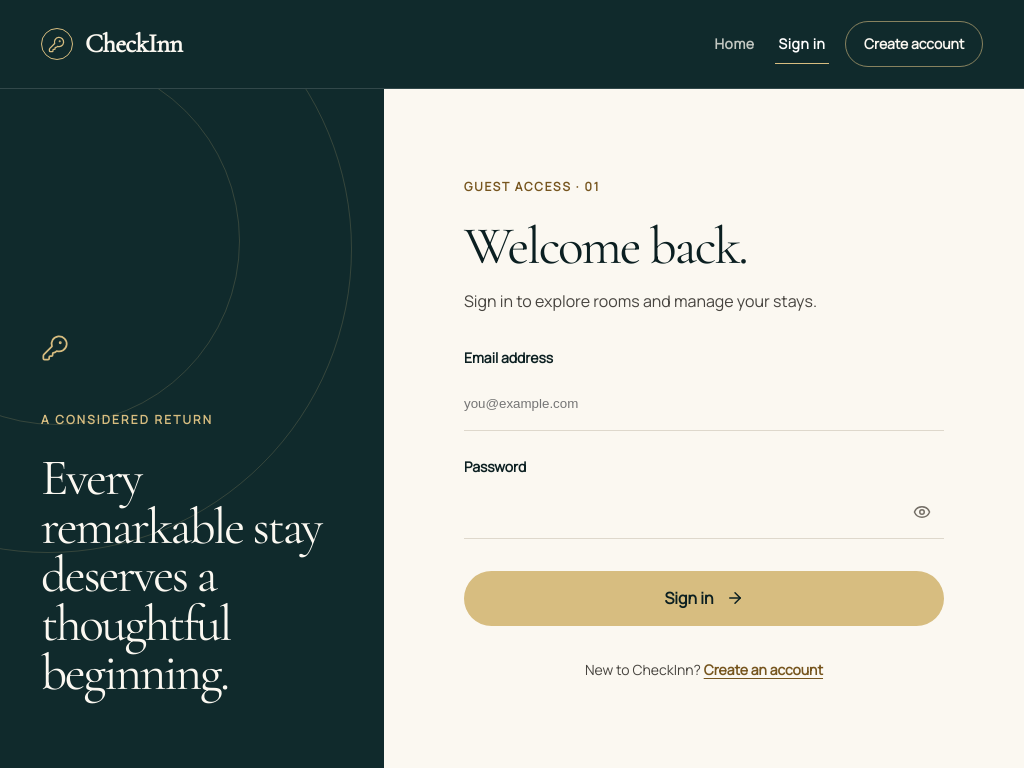
authentication routes › registers, signs in, and returns to the intended destination
Click the link "Create an account" at (763,669), box x1=704 y1=660 x2=823 y2=679
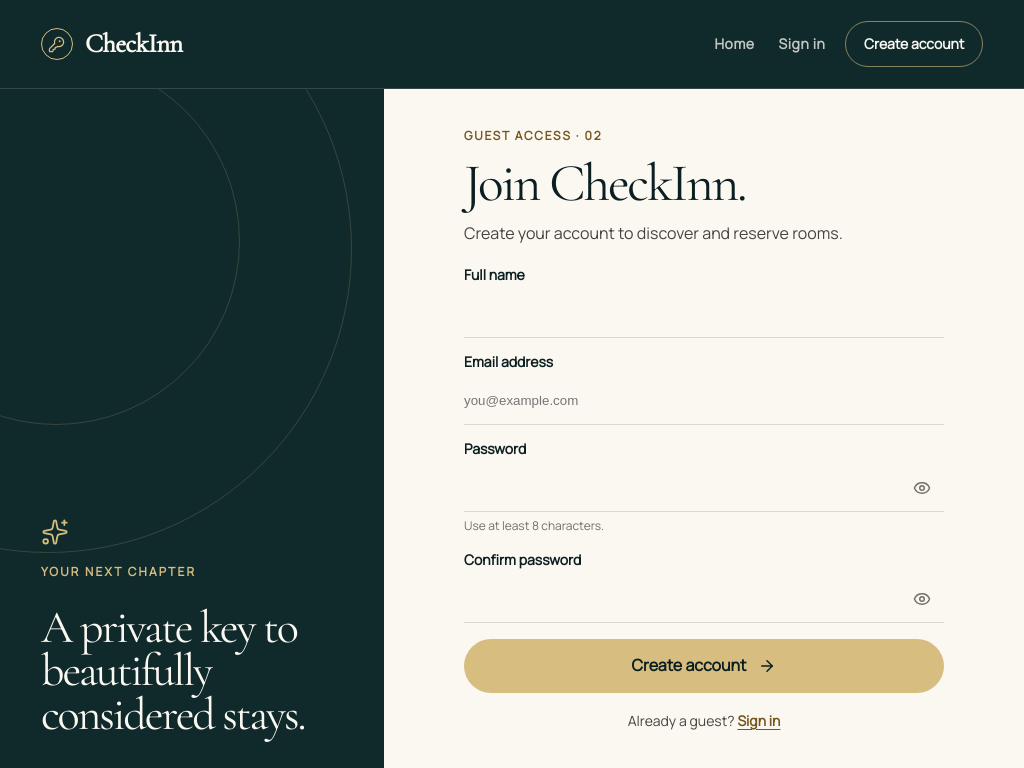
Type "Avery Guest" into the field labelled "Full name" at (704,314), box x1=464 y1=290 x2=944 y2=338
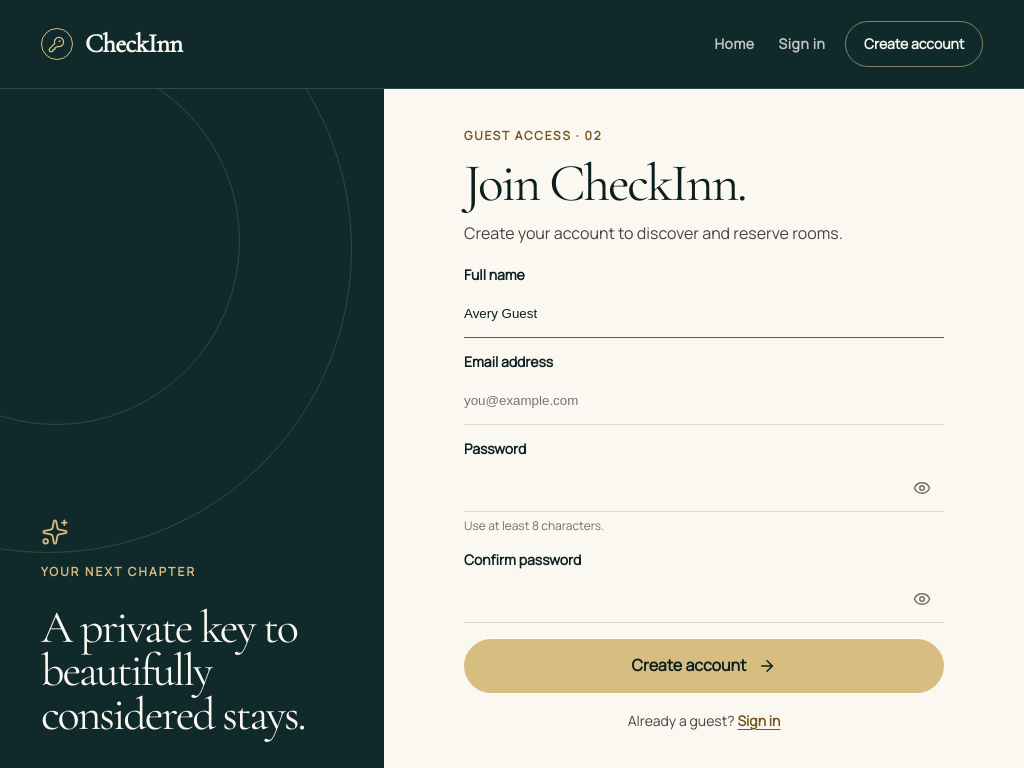
Type "avery@example.com" into the field labelled "Email address" at (704,401), box x1=464 y1=377 x2=944 y2=425
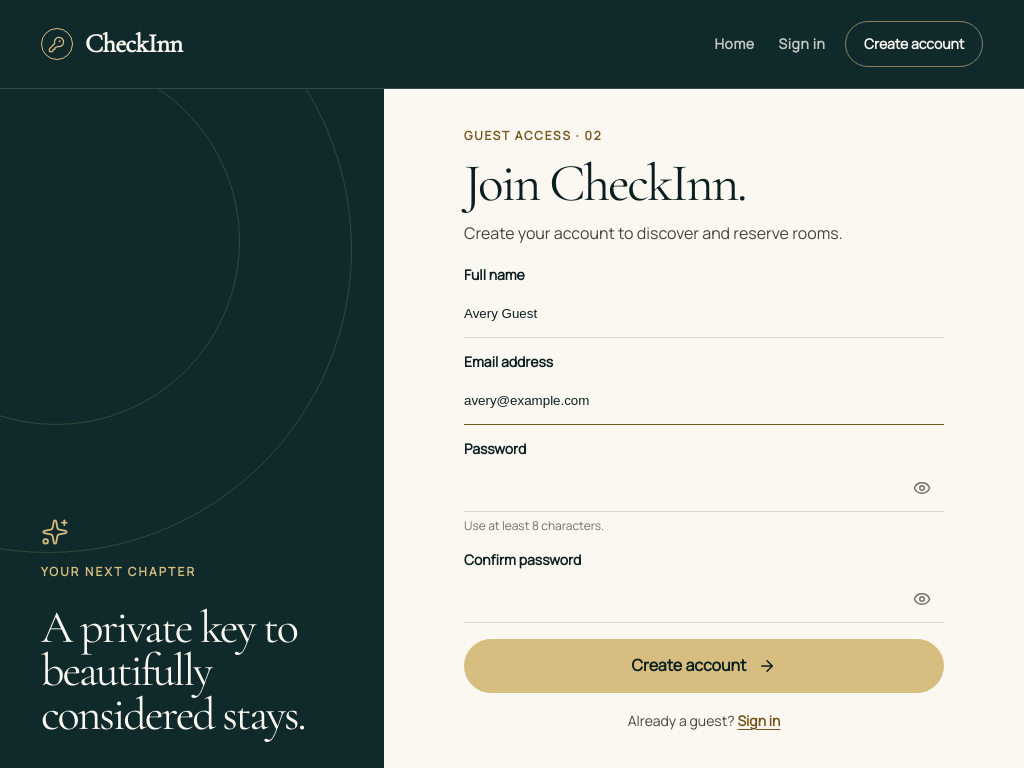
Type "Password123!" into the password field labelled "Password" at (704,488), box x1=464 y1=464 x2=944 y2=512
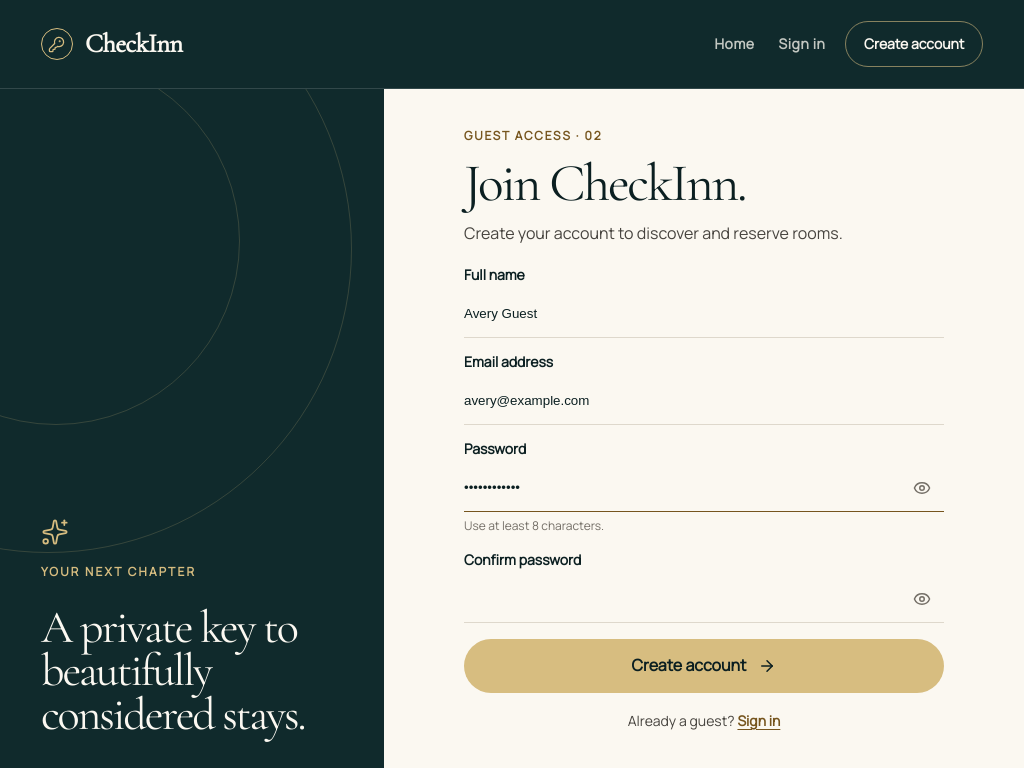
Type "Password123!" into the password field labelled "Confirm password" at (704,599), box x1=464 y1=575 x2=944 y2=623
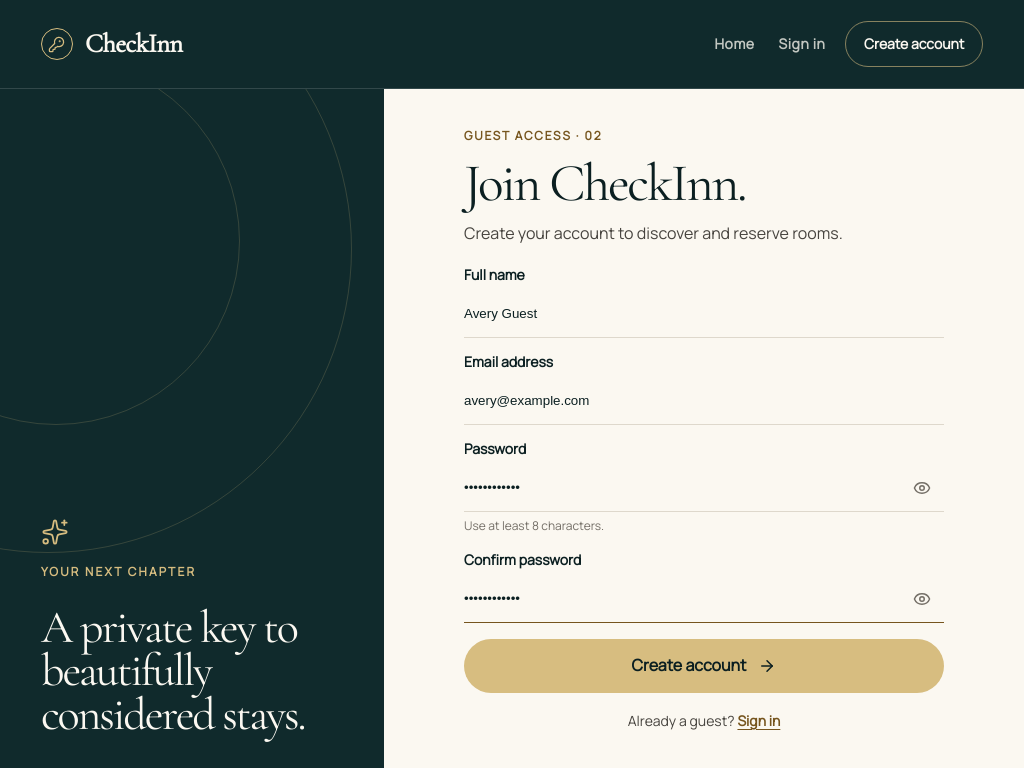
Click the button "Create account" at (704,666), box x1=464 y1=639 x2=944 y2=693
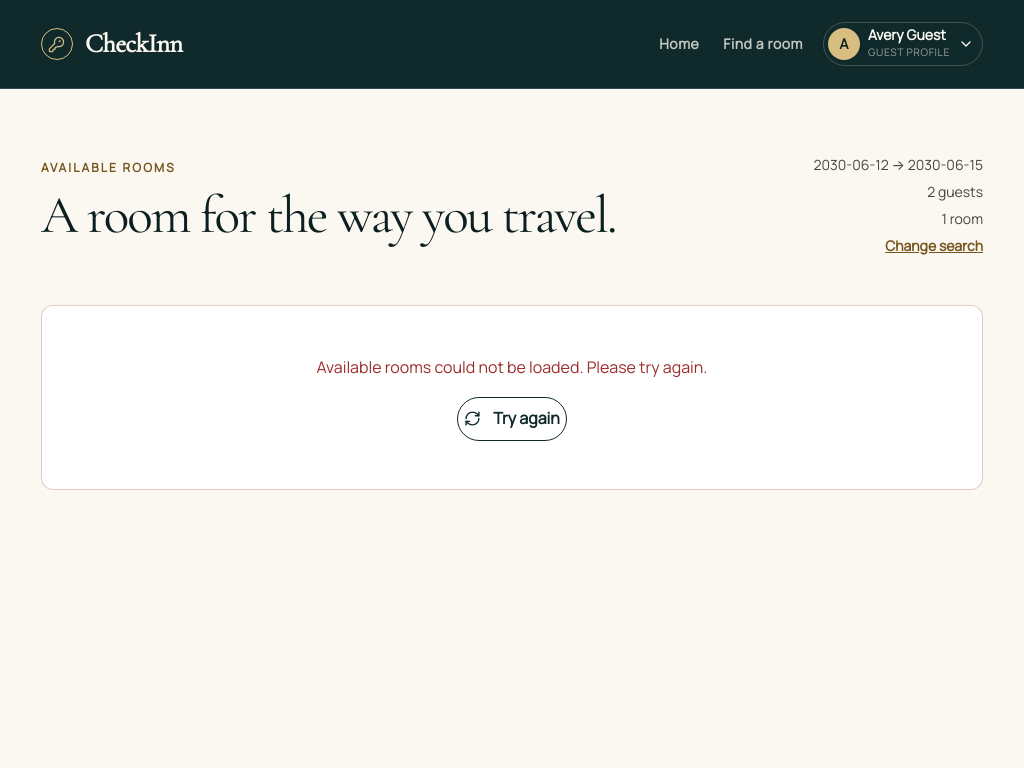
Check: the heading "A room for the way you travel." is shown, box x1=41 y1=183 x2=616 y2=247
